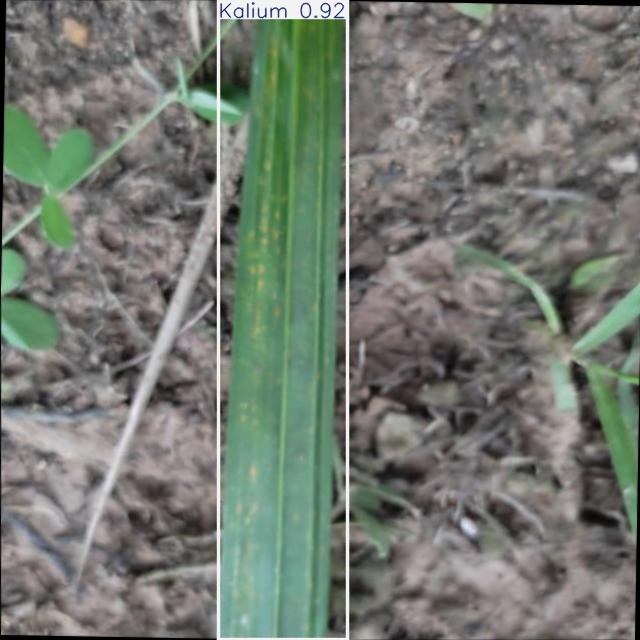Kalium: (218, 1, 348, 639)
